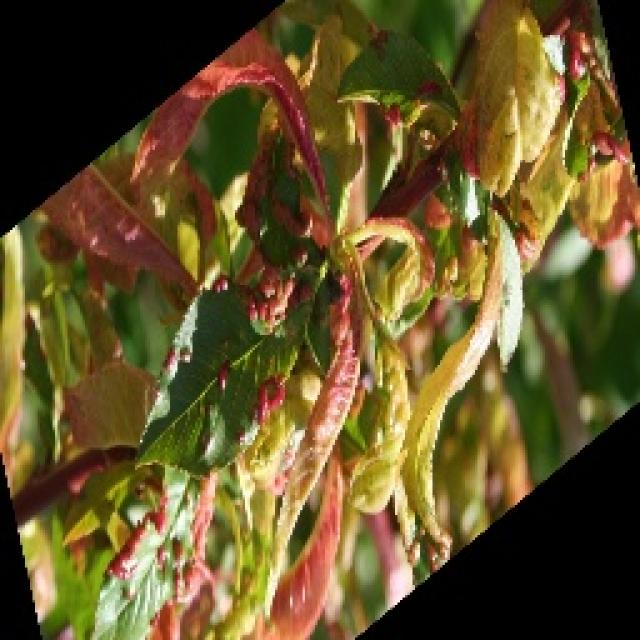Chlorosis: (0, 0, 638, 638)
peach_leaf_curl: (295, 150, 454, 495)
